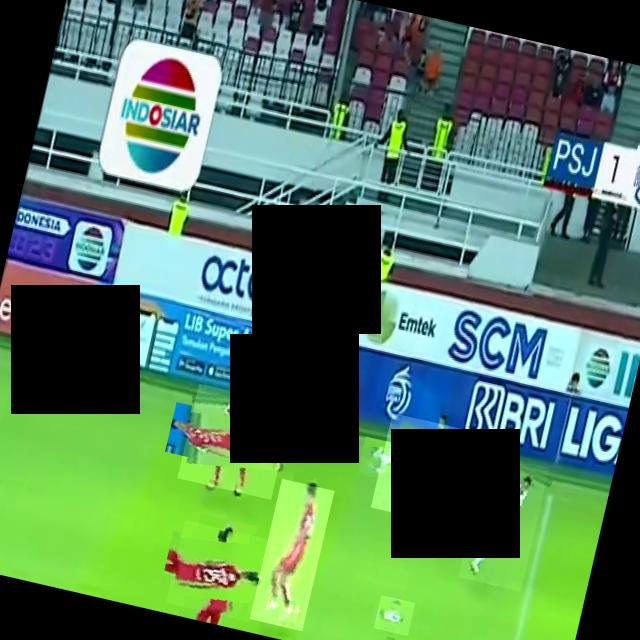ball: (373, 594, 415, 636)
soccer-player: (370, 412, 486, 528), (177, 384, 292, 499), (249, 478, 334, 630), (458, 453, 549, 591), (165, 520, 268, 622)
